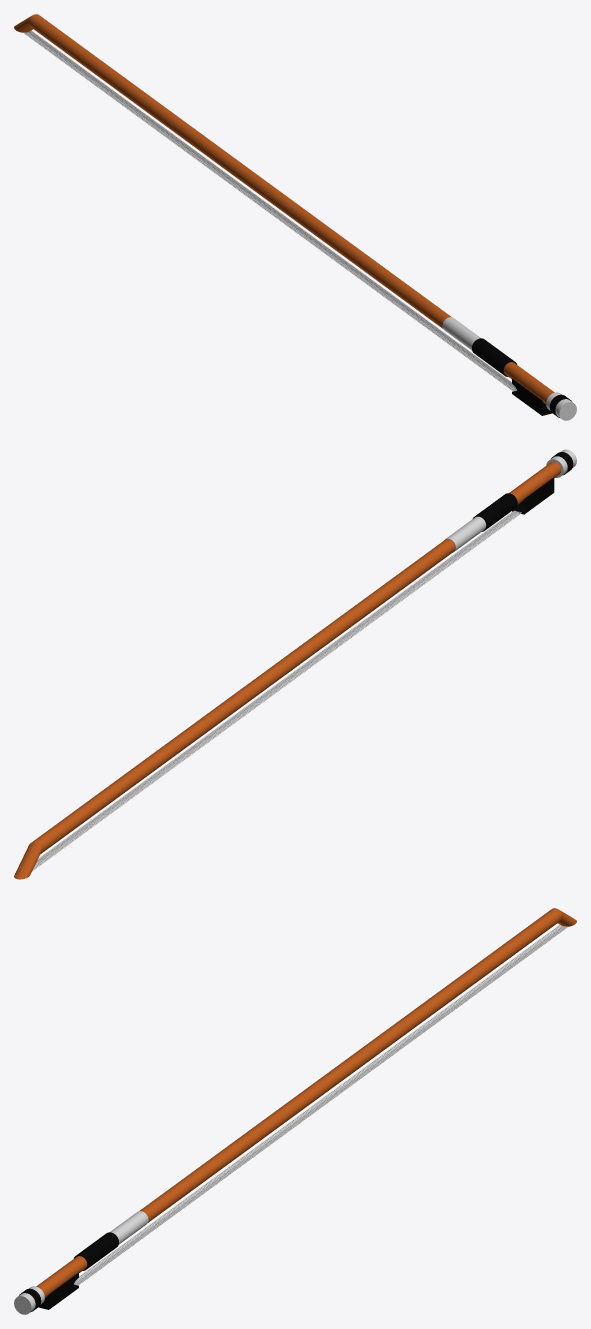
File: violin_bow.glb
The picture shows the model from 3 angles, top to bottom: view 1: azimuth 30°, elevation 25°; view 2: azimuth 150°, elevation 25°; view 3: azimuth 330°, elevation 25°; orthographic projection.
Visible parts, largest first — view 1: Object_5, Object_6, Object_3, Object_4, Object_2; view 2: Object_5, Object_6, Object_4, Object_3; view 3: Object_5, Object_6, Object_3, Object_4, Object_2.
Boxes of the visible parts, <box> form: Object_5: <box>14,14,554,403</box>; Object_6: <box>23,30,516,391</box>; Object_3: <box>442,317,576,420</box>; Object_4: <box>472,338,571,417</box>; Object_2: <box>512,378,552,415</box>; Object_5: <box>14,461,561,879</box>; Object_6: <box>32,510,521,871</box>; Object_4: <box>472,452,573,531</box>; Object_3: <box>444,449,576,552</box>; Object_5: <box>36,908,576,1297</box>; Object_6: <box>74,925,568,1285</box>; Object_3: <box>14,1211,148,1314</box>; Object_4: <box>19,1232,118,1311</box>; Object_2: <box>38,1272,78,1309</box>.
Size of the model in its own units: 1.53 by 2.13 by 77.59.
